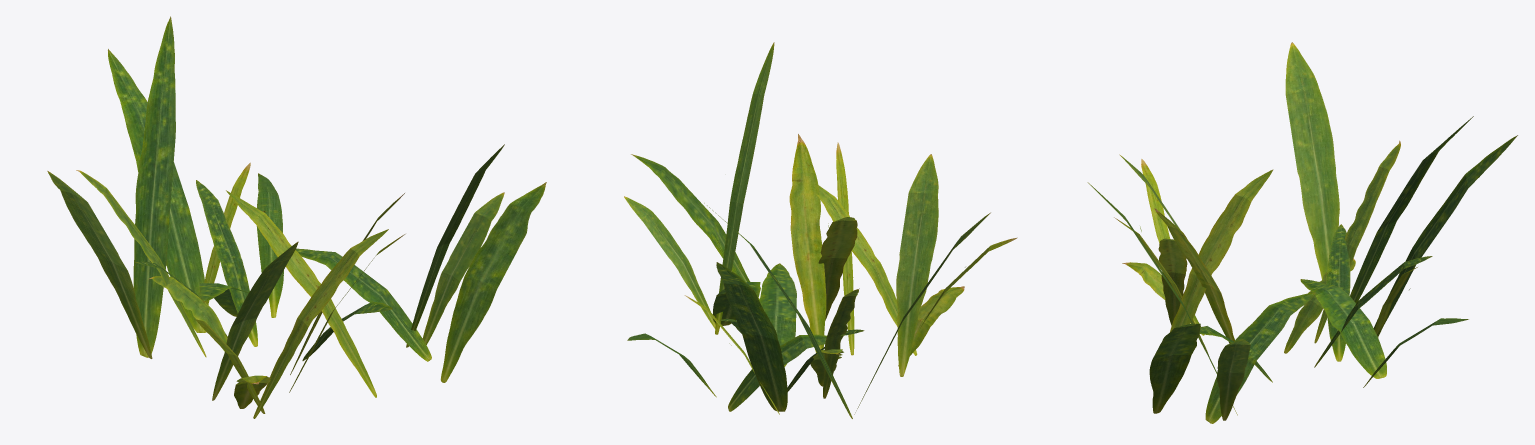
Rendered from grass_02.glb.
The picture shows the model from 3 angles, left to right: view 1: azimuth 30°, elevation 25°; view 2: azimuth 150°, elevation 25°; view 3: azimuth 270°, elevation 25°; orthographic projection. The views are drawn at different scales.
Parts seen in each view (by area): view 1: grass_02; view 2: grass_02; view 3: grass_02.
Boxes of the visible parts, box(x1,y1,x2,y2) form: grass_02: box(47, 16, 546, 418); grass_02: box(624, 42, 1017, 418); grass_02: box(1087, 42, 1517, 423).
Size of the model in its own units: 1.18 by 0.6458 by 0.998.
1 material, 1 textured.
